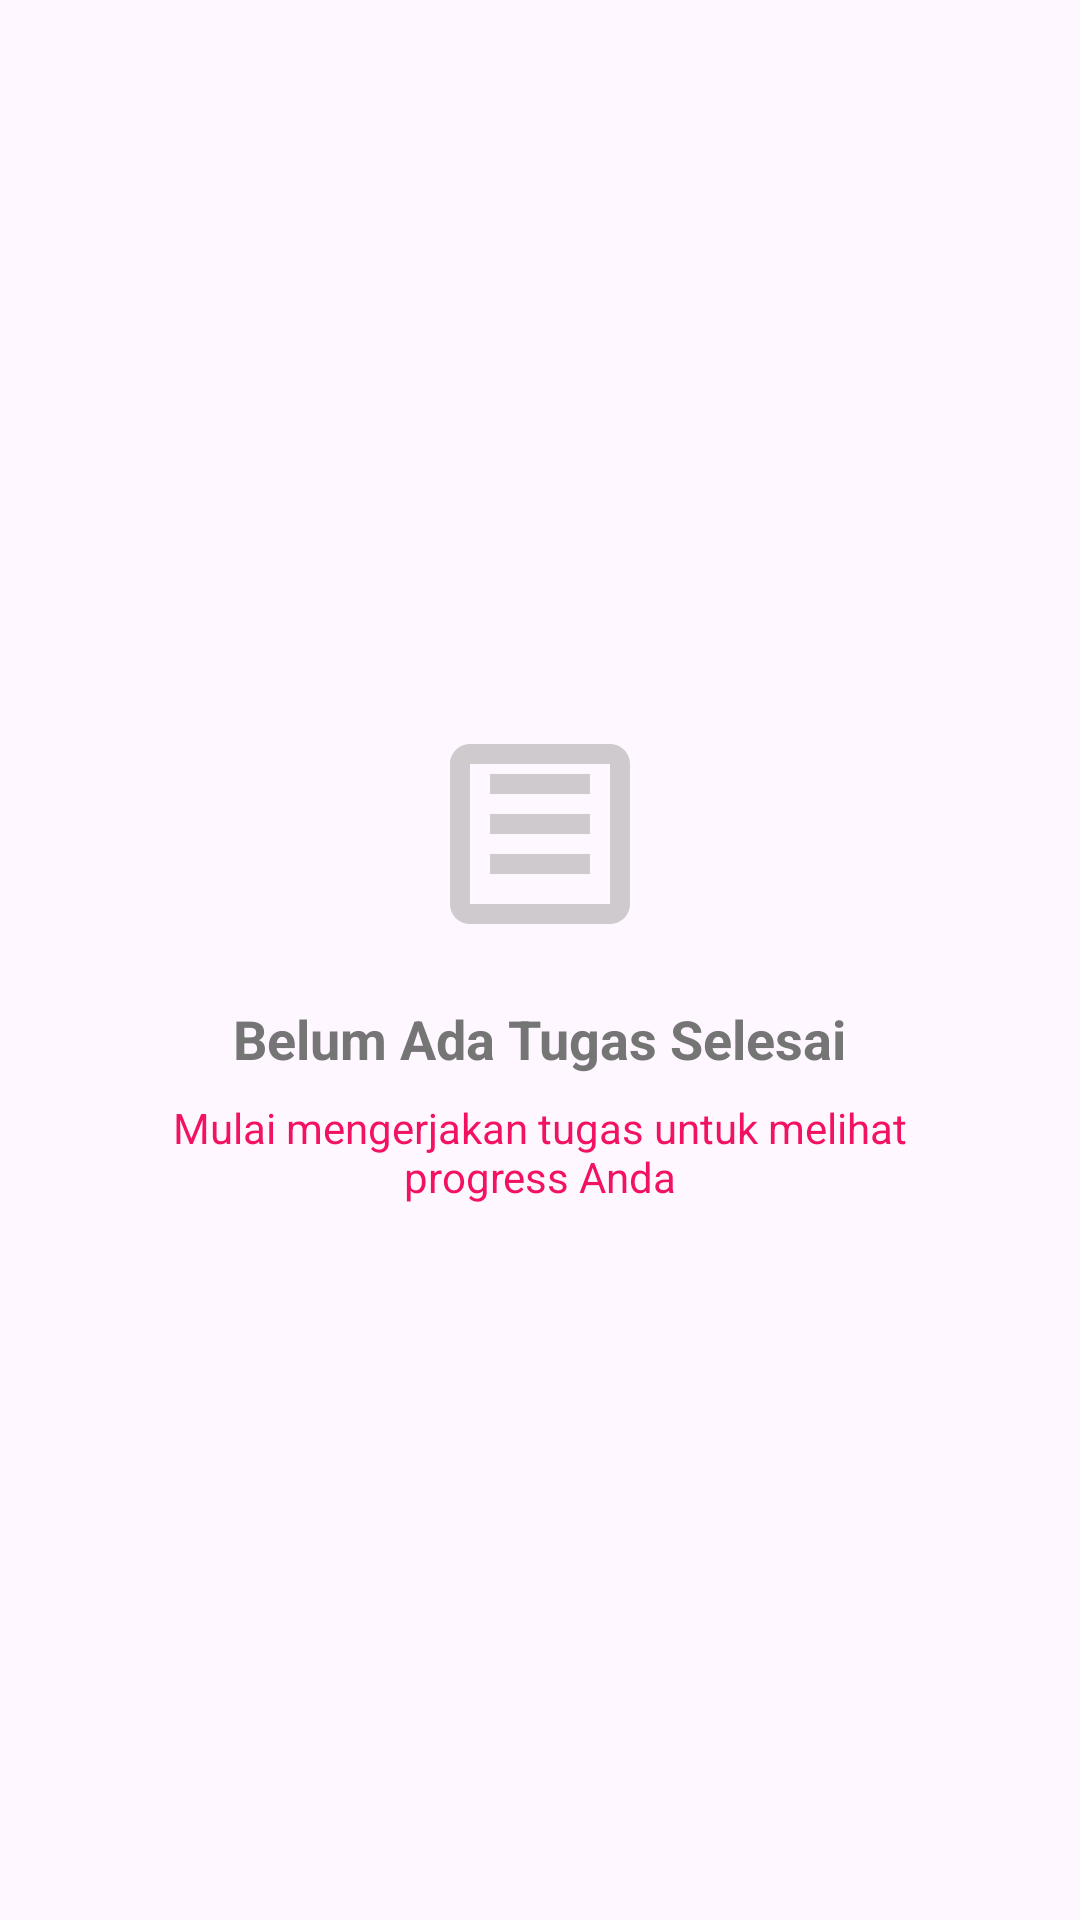

Screen size 1080px x 1920px. Icon name, then its box in pixels as (x1, y1, x2, y2):
empty tasks: (450, 744, 630, 924)
